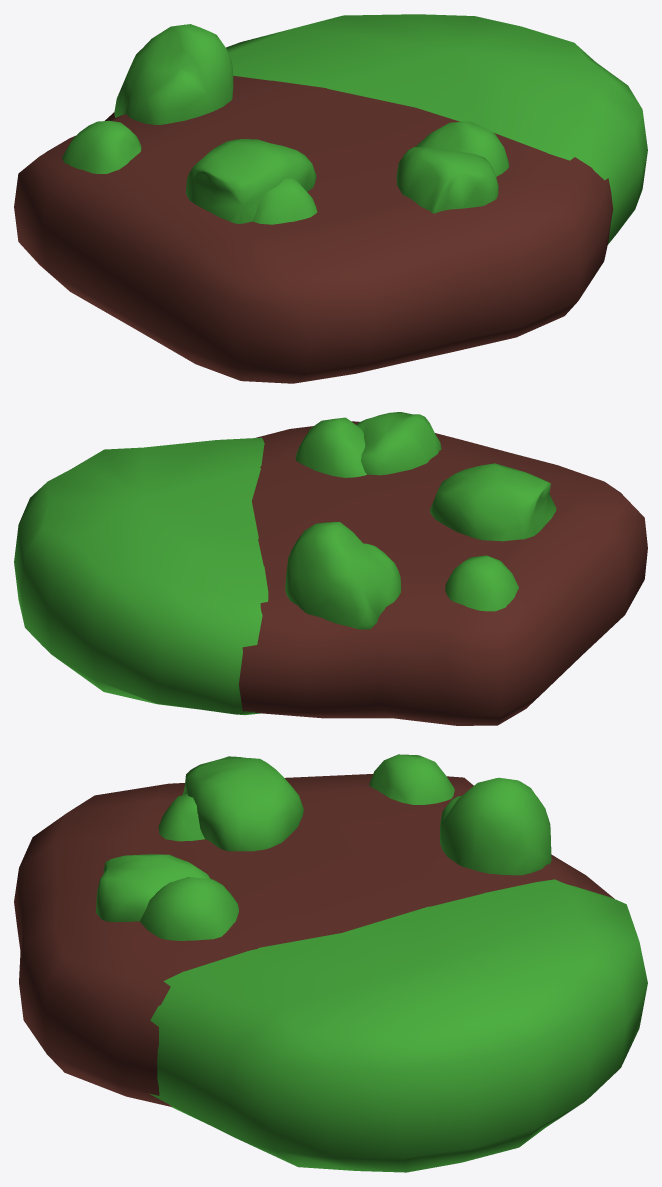
File: EmraldGemOre.fbx
3 views of the same model, one above another, from view 1: azimuth 30°, elevation 25°; view 2: azimuth 150°, elevation 25°; view 3: azimuth 270°, elevation 25° (orthographic). The views are drawn at different scales.
Parts seen in each view (by area): view 1: Cube.206; view 2: Cube.206; view 3: Cube.206.
Part boxes in pixels (x1,y1,x2,y2): Cube.206: (14, 14, 647, 383); Cube.206: (14, 412, 647, 725); Cube.206: (14, 754, 647, 1172).
Size of the model in its own units: 2.07 by 0.7424 by 1.89.
1 material, 1 textured.
